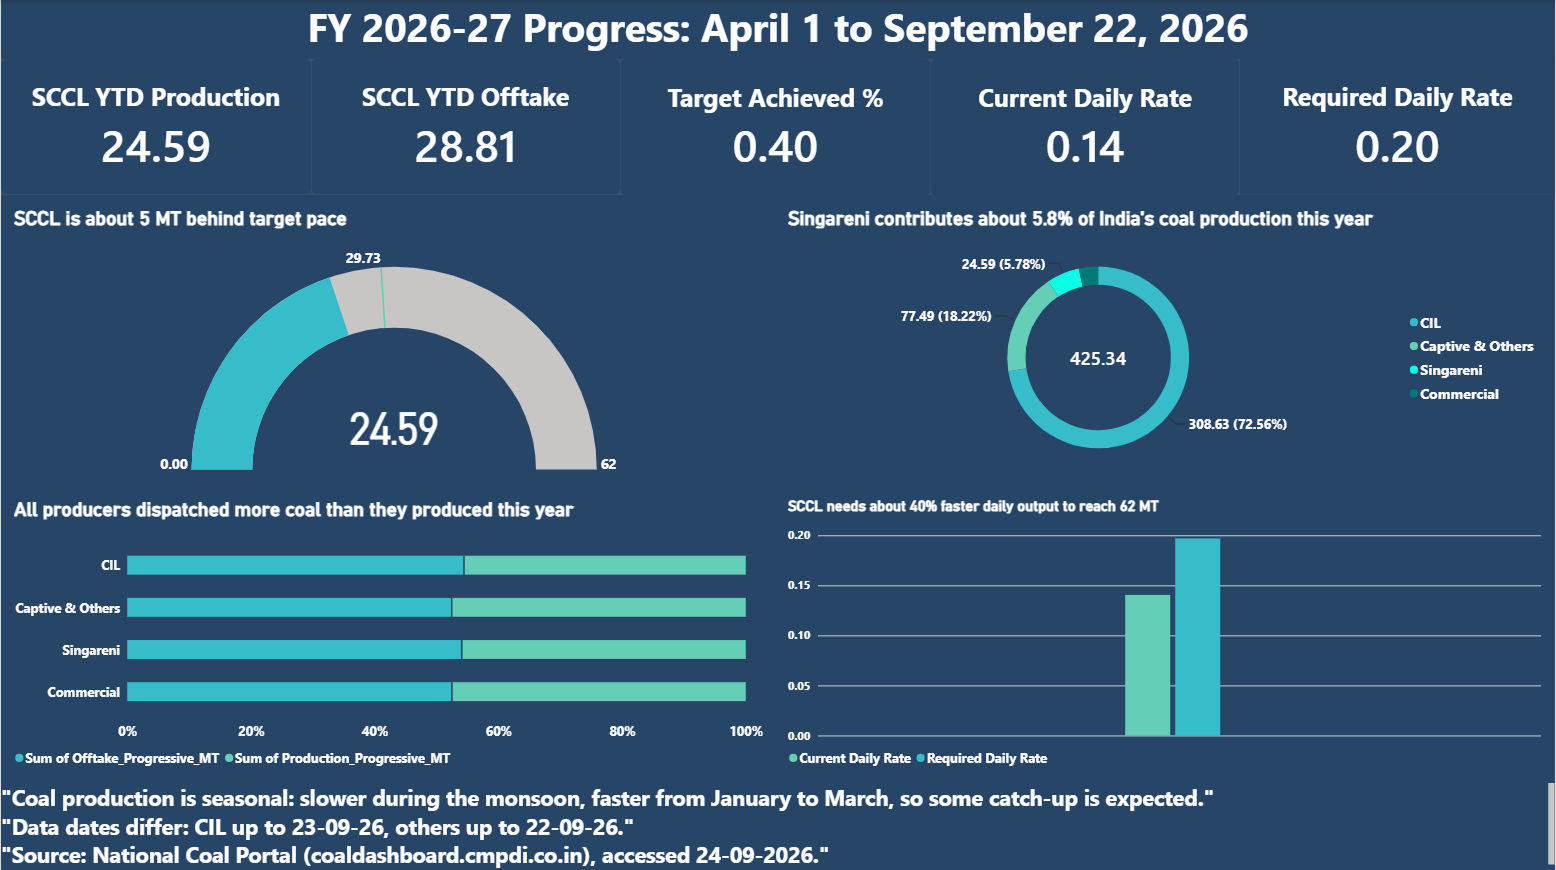

The page's visual inventory and layout, read from the dashboard file:
{"tool":"powerbi","page":{"name":"Page 2","canvas":[1920,1080],"ordinal":1},"visuals":[{"type":"textbox","box":[0,0,1920.1,72.4],"z":0},{"type":"cardVisual","fields":{"Data":["coal_snapshot.SCCL YTD Production"]},"box":[0,72.4,383.6,168.3],"z":1000},{"type":"cardVisual","fields":{"Data":["coal_snapshot.SCCL YTD Offtake"]},"box":[383.6,72.4,381.8,168.3],"z":2000},{"type":"cardVisual","fields":{"Data":["coal_snapshot.Target Achieved %"]},"box":[765.5,72.4,383.6,170.1],"z":3000},{"type":"cardVisual","fields":{"Data":["coal_snapshot.Current Daily Rate"]},"box":[1149.1,72.4,381.8,170.1],"z":4000},{"type":"cardVisual","fields":{"Data":["coal_snapshot.Required Daily Rate"]},"box":[1531,72.4,389.1,168.3],"z":5000},{"type":"gauge","title":"SCCL is about 5 MT behind target pace","fields":{"MaxValue":["coal_snapshot.Annual Target"],"TargetValue":["coal_snapshot.Expected by Now"],"Y":["coal_snapshot.SCCL YTD Production"]},"box":[0,240.7,957.3,360.1],"z":6000},{"type":"donutChart","title":"Singareni contributes about 5.8% of India''s coal production this year","fields":{"Category":["coal_snapshot.Company"],"Y":["Sum(coal_snapshot.Production_Progressive_MT)"]},"box":[957.3,240.7,962.7,360.1],"z":7000},{"type":"hundredPercentStackedBarChart","title":"All producers dispatched more coal than they produced this year","fields":{"Category":["coal_snapshot.Company"],"Y":["Sum(coal_snapshot.Offtake_Progressive_MT)","Sum(coal_snapshot.Production_Progressive_MT)"]},"box":[0,600.8,957.3,367.4],"z":8000},{"type":"clusteredColumnChart","title":"SCCL needs about 40% faster daily output to reach 62 MT","fields":{"Y":["coal_snapshot.Current Daily Rate","coal_snapshot.Required Daily Rate"]},"box":[957.3,600.8,962.7,367.4],"z":9000},{"type":"textbox","box":[0,968.2,1920.1,112.2],"z":10000}]}

Visuals, with their boxes in screenshot pixels (x1, y1, x2, y2), scaled from the page's 1920x1080 canvas onto the 1556x870 screenshot:
textbox: x1=0, y1=0, x2=1555, y2=58
cardVisual - coal_snapshot.SCCL YTD Production: x1=0, y1=58, x2=311, y2=194
cardVisual - coal_snapshot.SCCL YTD Offtake: x1=311, y1=58, x2=620, y2=194
cardVisual - coal_snapshot.Target Achieved %: x1=620, y1=58, x2=931, y2=195
cardVisual - coal_snapshot.Current Daily Rate: x1=931, y1=58, x2=1241, y2=195
cardVisual - coal_snapshot.Required Daily Rate: x1=1241, y1=58, x2=1555, y2=194
"SCCL is about 5 MT behind target pace" gauge: x1=0, y1=194, x2=776, y2=484
"Singareni contributes about 5.8% of India''s coal production this year" donutChart: x1=776, y1=194, x2=1555, y2=484
"All producers dispatched more coal than they produced this year" hundredPercentStackedBarChart: x1=0, y1=484, x2=776, y2=780
"SCCL needs about 40% faster daily output to reach 62 MT" clusteredColumnChart: x1=776, y1=484, x2=1555, y2=780
textbox: x1=0, y1=780, x2=1555, y2=869
